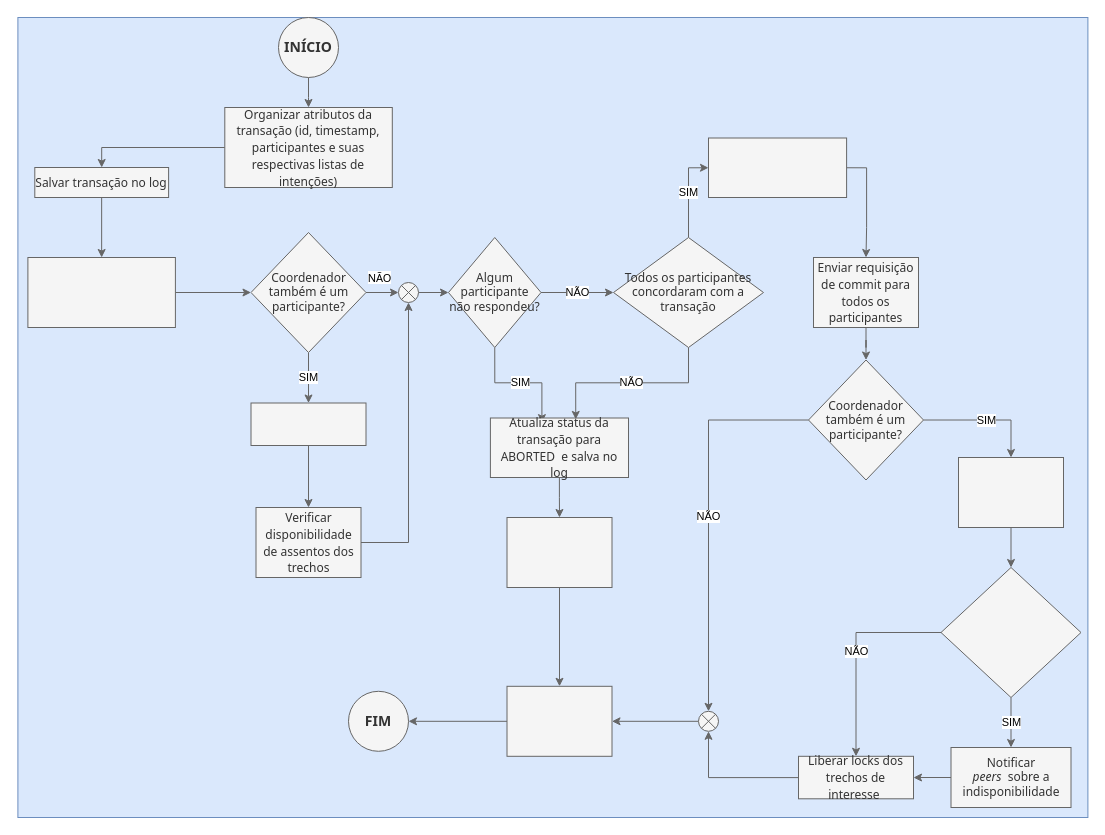
Image size: 1105x835. Some labels were removed from this diagram. Here are the shapes that lost their labels. From the top down, the box of each, then its label:
(708, 137, 847, 198): Atualiza status da transação para COMMIT e salva no log
(27, 256, 175, 328): Enviar requisição 'canCommit' para todos os participantes
(250, 402, 366, 446): Adquirir lock dos trechos de interesse
(958, 456, 1064, 528): Atualizar número de assentos de todos os trechos de interesse
(506, 516, 612, 588): Enviar requisição de abort para todos os participantes
(940, 566, 1081, 698): Algum trecho zerou o número de assentos?
(506, 685, 612, 756): Retornar resultado ao cliente
